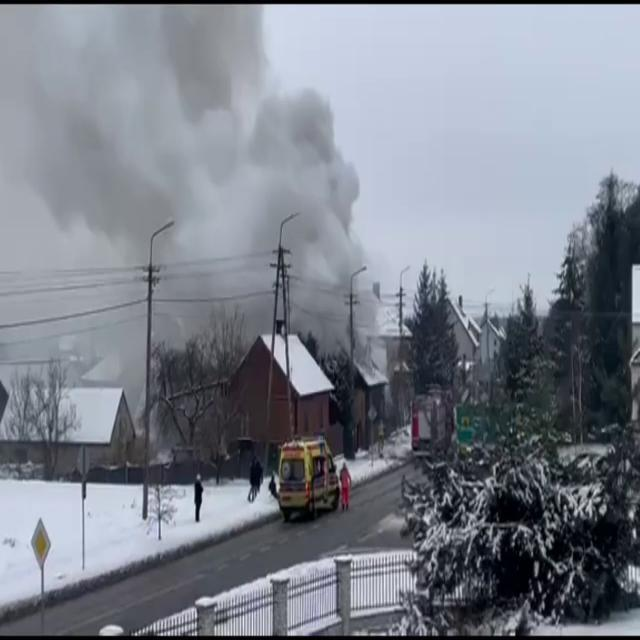Smoke: (0, 2, 384, 368)
